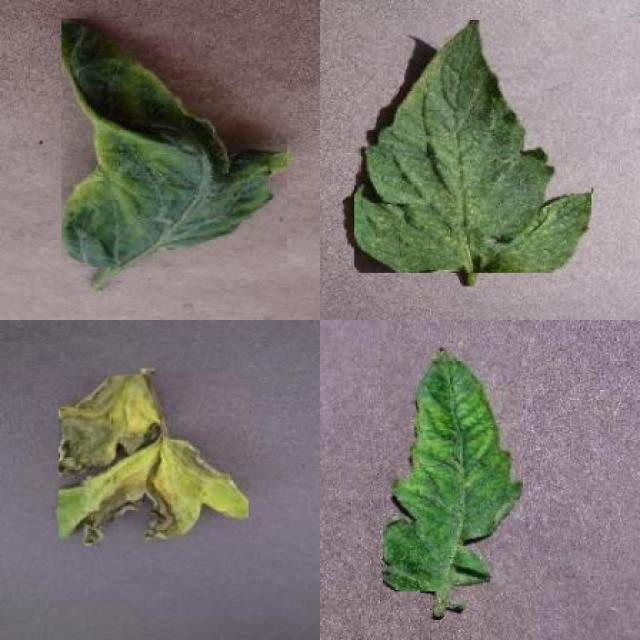Late Blight: (58, 375, 248, 545)
Mosaic Virus: (383, 345, 523, 592)
Spider Mites: (355, 20, 592, 273)
Yellow Leaf Curl Virus: (62, 19, 288, 267)
